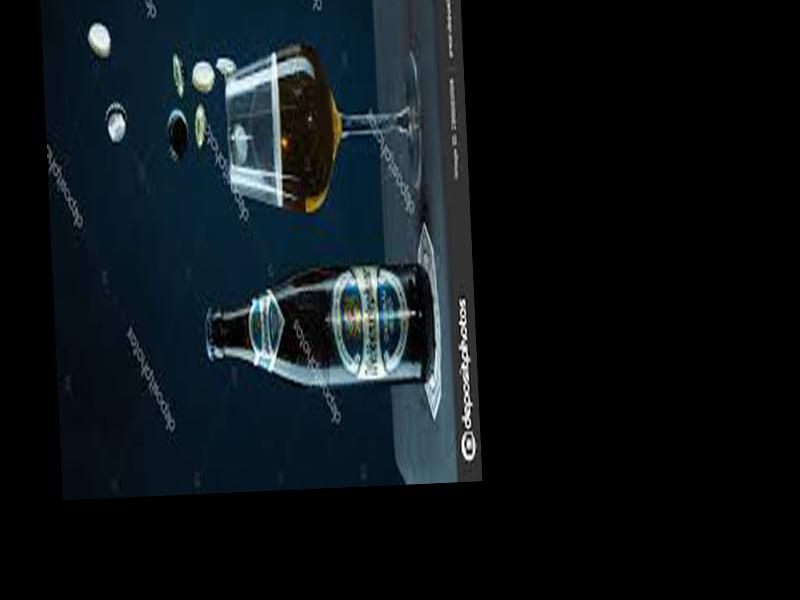Beer: (205, 265, 433, 389)
